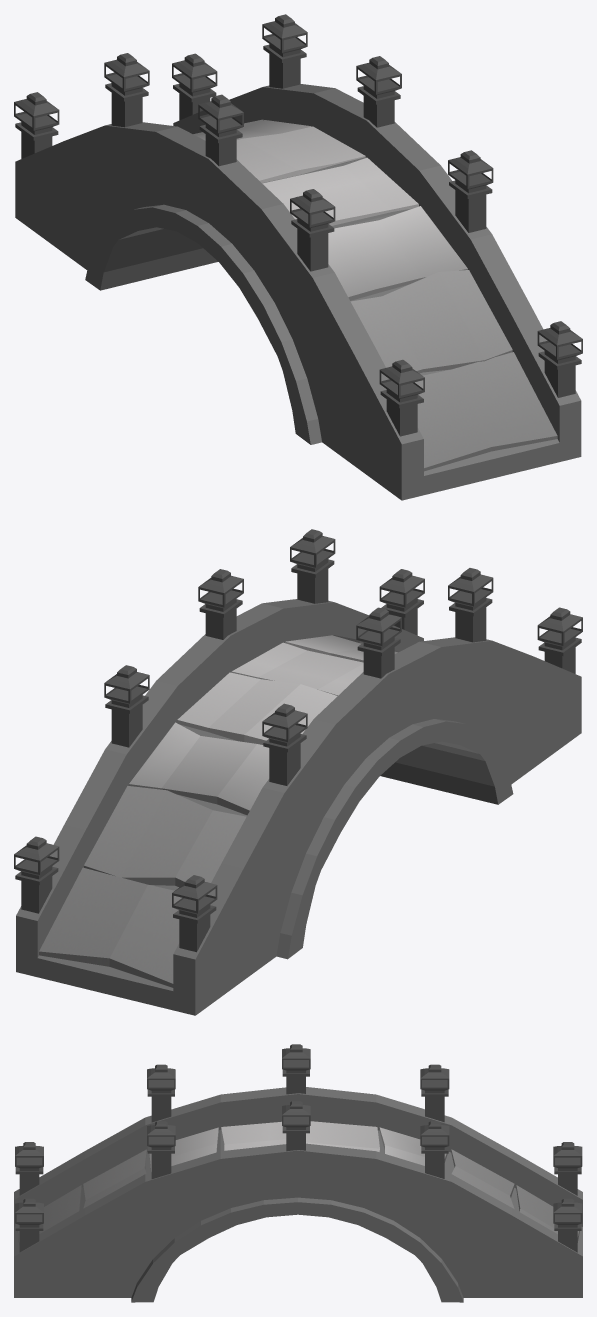
File: Raven_Stone_Bridge.fbx
The picture shows the model from 3 angles, top to bottom: view 1: azimuth 30°, elevation 25°; view 2: azimuth 150°, elevation 25°; view 3: azimuth 270°, elevation 25°; orthographic projection. The views are drawn at different scales.
Parts seen in each view (by area): view 1: Cube.002, Cube, Cube.001, Cube.008, Cube.004, Cube.009, Cube.003, Cube.007, Cube.006, Cube.011, Cube.010, Cube.005; view 2: Cube.002, Cube, Cube.009, Cube.004, Cube.008, Cube.001, Cube.005, Cube.010, Cube.006, Cube.011, Cube.007, Cube.003; view 3: Cube.002, Cube, Cube.008, Cube.001, Cube.009, Cube.004, Cube.005, Cube.010, Cube.011, Cube.003, Cube.006, Cube.007.
Part boxes in pixels (x1,y1,x2,y2): Cube.002: (15,84,581,500); Cube: (193,119,557,471); Cube.001: (448,150,493,232); Cube.008: (290,189,335,271); Cube.004: (262,14,307,88); Cube.009: (104,53,149,127); Cube.003: (537,321,582,397); Cube.007: (379,359,424,436); Cube.006: (356,56,401,127); Cube.011: (198,94,243,166); Cube.010: (14,92,59,158); Cube.005: (172,53,217,120); Cube.002: (16,599,581,1015); Cube: (39,635,399,987); Cube.009: (262,703,307,785); Cube.004: (104,665,149,747); Cube.008: (448,568,493,642); Cube.001: (290,529,335,603); Cube.005: (14,836,59,913); Cube.010: (172,875,217,952); Cube.006: (198,569,243,639); Cube.011: (356,607,401,678); Cube.007: (537,607,582,673); Cube.003: (379,569,424,635); Cube.002: (14,1087,582,1302); Cube: (17,1121,579,1245); Cube.008: (147,1064,175,1122); Cube.001: (147,1121,175,1178); Cube.009: (420,1064,449,1122); Cube.004: (420,1121,449,1178); Cube.005: (553,1198,582,1252); Cube.010: (553,1142,582,1195); Cube.011: (282,1044,310,1094); Cube.003: (15,1198,43,1252); Cube.006: (282,1101,310,1151); Cube.007: (15,1142,43,1195).
Bounding box in the file's own units: 153 × 187 × 503.
3 materials, 1 textured.
